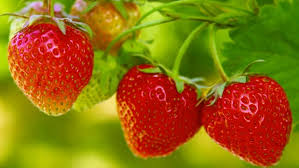strawberry: (116, 57, 207, 162), (200, 69, 295, 168), (6, 15, 95, 118)
